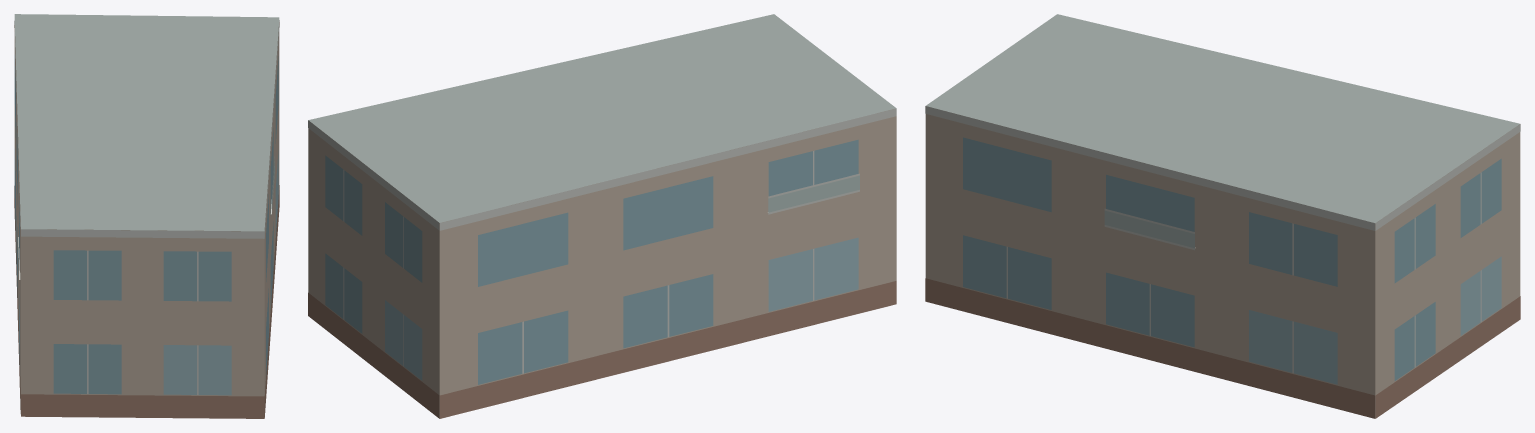
Rendered from survey-upis-32775894.glb.
3 views of the same model, side by side, from view 1: azimuth 30°, elevation 25°; view 2: azimuth 150°, elevation 25°; view 3: azimuth 270°, elevation 25° (orthographic). The views are drawn at different scales.
Visible parts, largest first — view 1: survey-upis-32775894.tmp; view 2: survey-upis-32775894.tmp; view 3: survey-upis-32775894.tmp.
Part boxes in pixels (bbox=[...]): survey-upis-32775894.tmp: bbox=[14, 14, 279, 418]; survey-upis-32775894.tmp: bbox=[308, 14, 896, 418]; survey-upis-32775894.tmp: bbox=[925, 14, 1520, 418].
Bounding box in the file's own units: 14 × 6.1 × 16.82.
